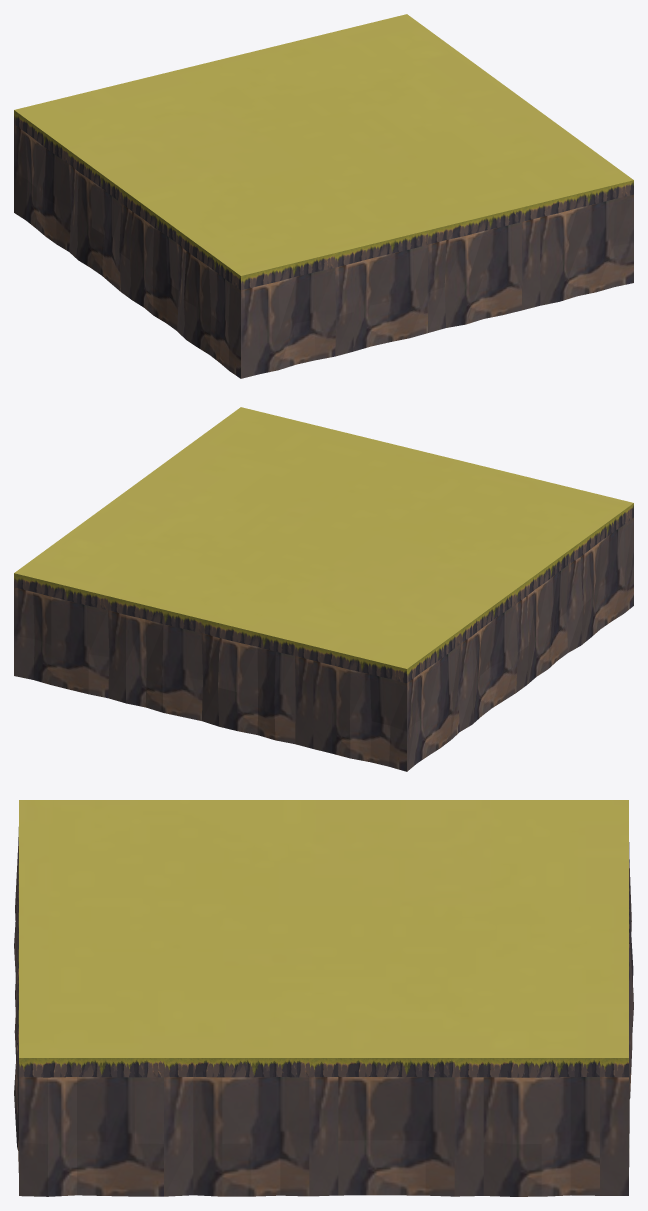
The model's file is rc_terrain_plateau_32x32x8.glb.
3 renders of one model, top to bottom at view 1: azimuth 30°, elevation 25°; view 2: azimuth 150°, elevation 25°; view 3: azimuth 270°, elevation 25°, orthographic. The views are drawn at different scales.
Parts seen in each view (by area): view 1: SM_RC_Terrain_Plateau_32x32x8; view 2: SM_RC_Terrain_Plateau_32x32x8; view 3: SM_RC_Terrain_Plateau_32x32x8.
Part boxes in pixels (x1,y1,x2,y2): SM_RC_Terrain_Plateau_32x32x8: (14,14,633,378); SM_RC_Terrain_Plateau_32x32x8: (14,407,633,771); SM_RC_Terrain_Plateau_32x32x8: (14,800,633,1196).
Bounding box in the file's own units: 32.53 × 8 × 32.52.
1 material, 1 textured.
